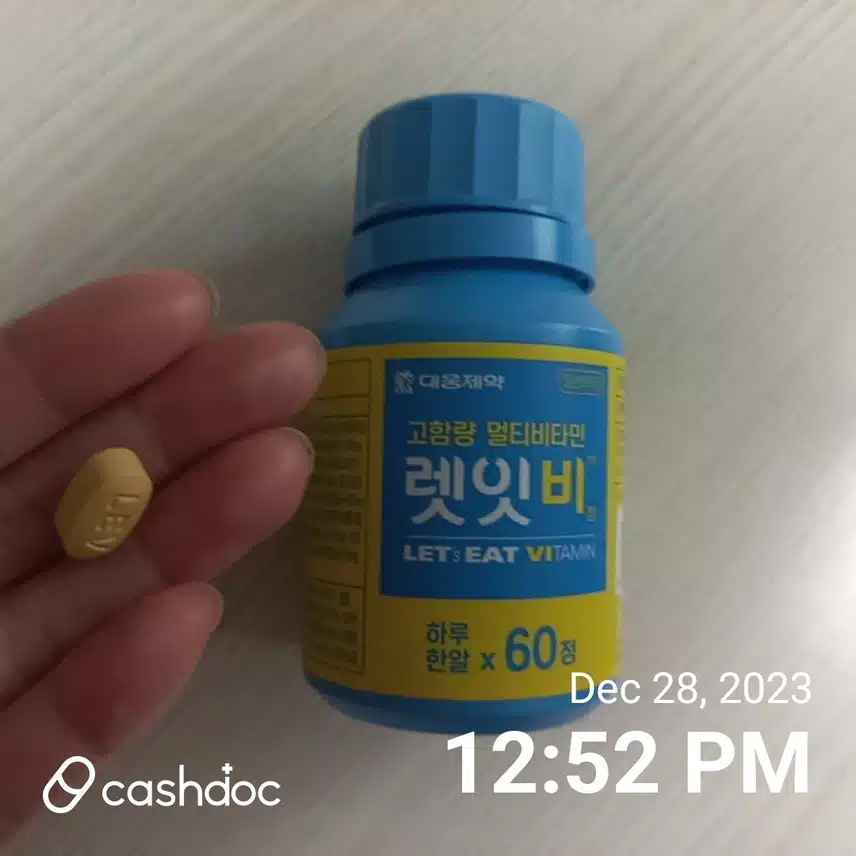supplement_label: (276, 328, 657, 709)
